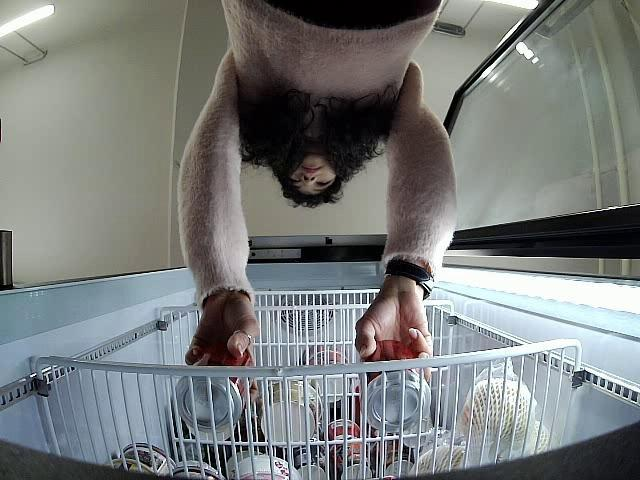11_cocaColaZero: (173, 344, 254, 432), (359, 339, 432, 432)
